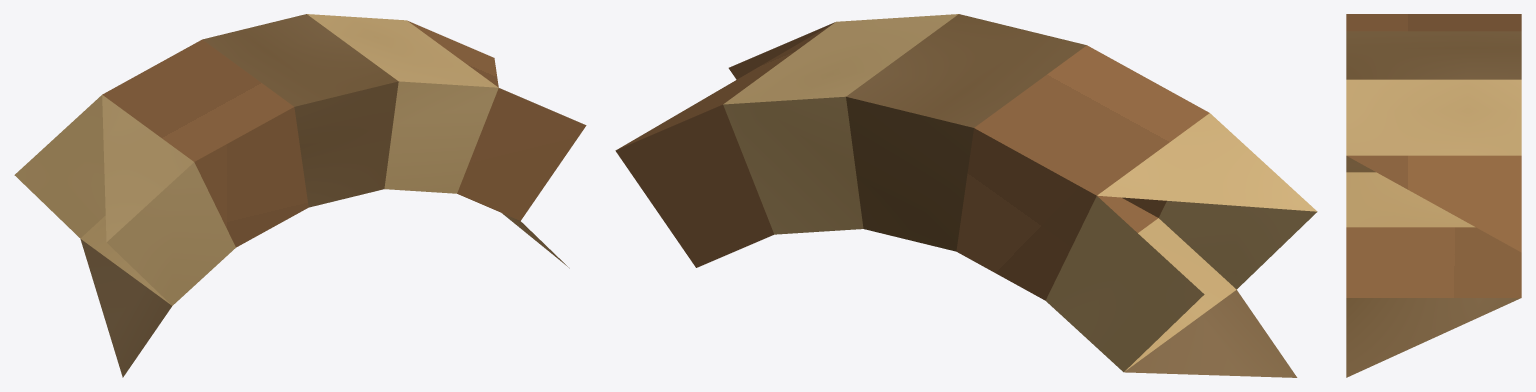
The model's file is floating_earth_wall_top.obj.
3 views of the same model, side by side, from view 1: azimuth 30°, elevation 25°; view 2: azimuth 150°, elevation 25°; view 3: azimuth 270°, elevation 25° (orthographic). The views are drawn at different scales.
Parts seen in each view (by area): view 1: FloatingEarthWallTop; view 2: FloatingEarthWallTop; view 3: FloatingEarthWallTop.
Part boxes in pixels (box(x1,y1,x2,y2)): FloatingEarthWallTop: box(14, 14, 586, 377); FloatingEarthWallTop: box(615, 14, 1317, 377); FloatingEarthWallTop: box(1346, 14, 1521, 377).
Bounding box in the file's own units: 2.53 × 1.15 × 0.84.
